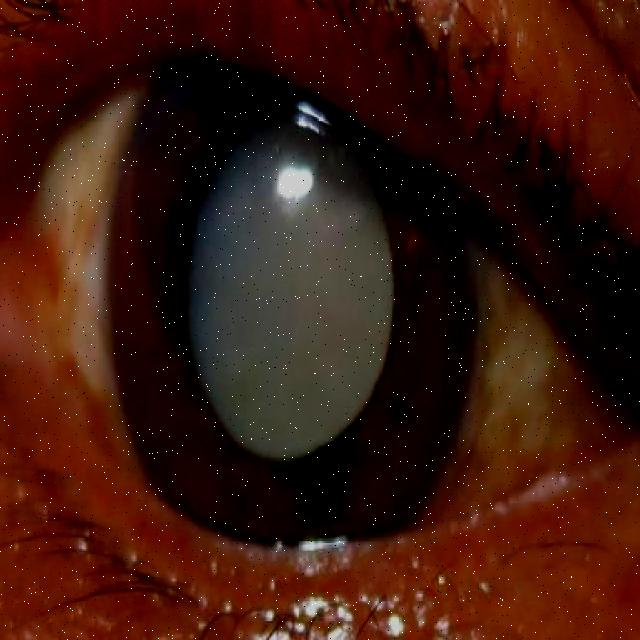Cataract: (92, 86, 490, 559)
